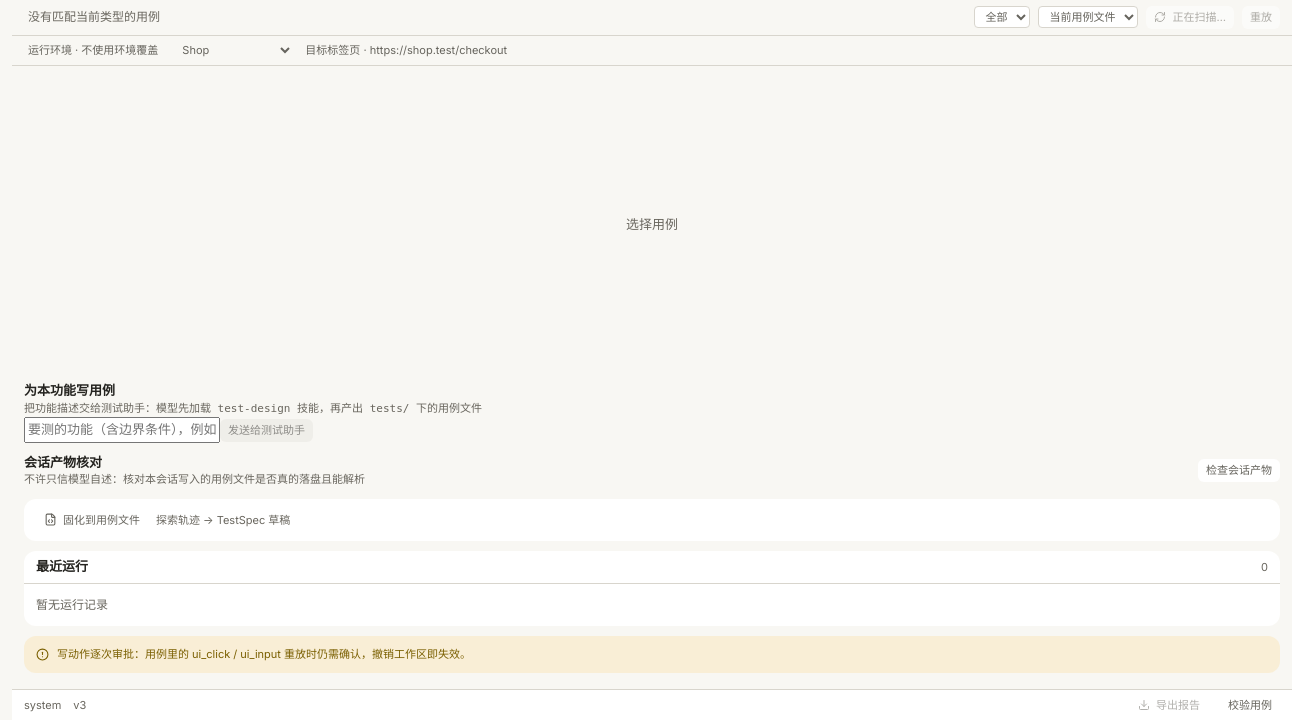
Test: TestingView run flow › runs every valid spec under one batch and shows the batch summary
The image size is (1292, 720).
Select "全部" in the dropdown named "运行范围" at (1088, 17), box [1038,6,1138,28]
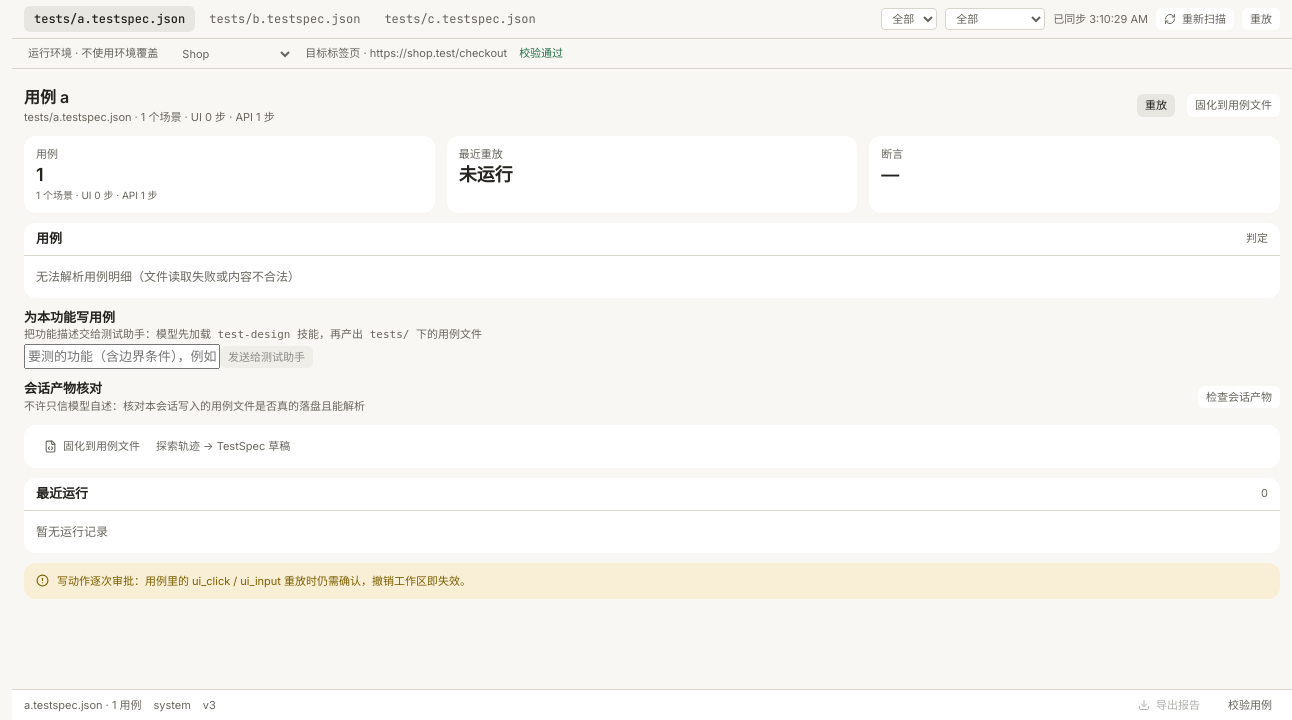
Select "UI" in the dropdown named "类型" at (909, 19), box [881,8,937,30]
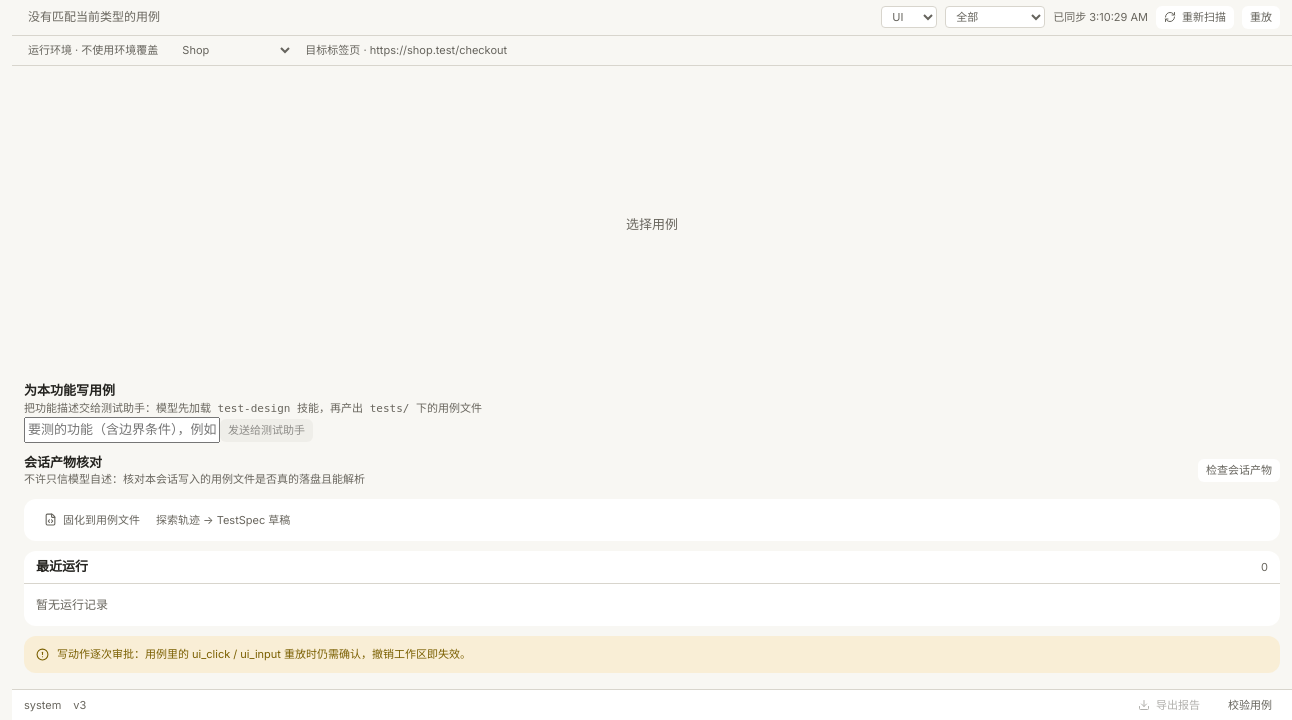
Check: the button "重放" is enabled
// 有 3 个用例文件时「重放」在两处（顶栏 + 用例详情），取顶栏那个。
Click the button "重放" at (1261, 17), box [1242,6,1280,28]
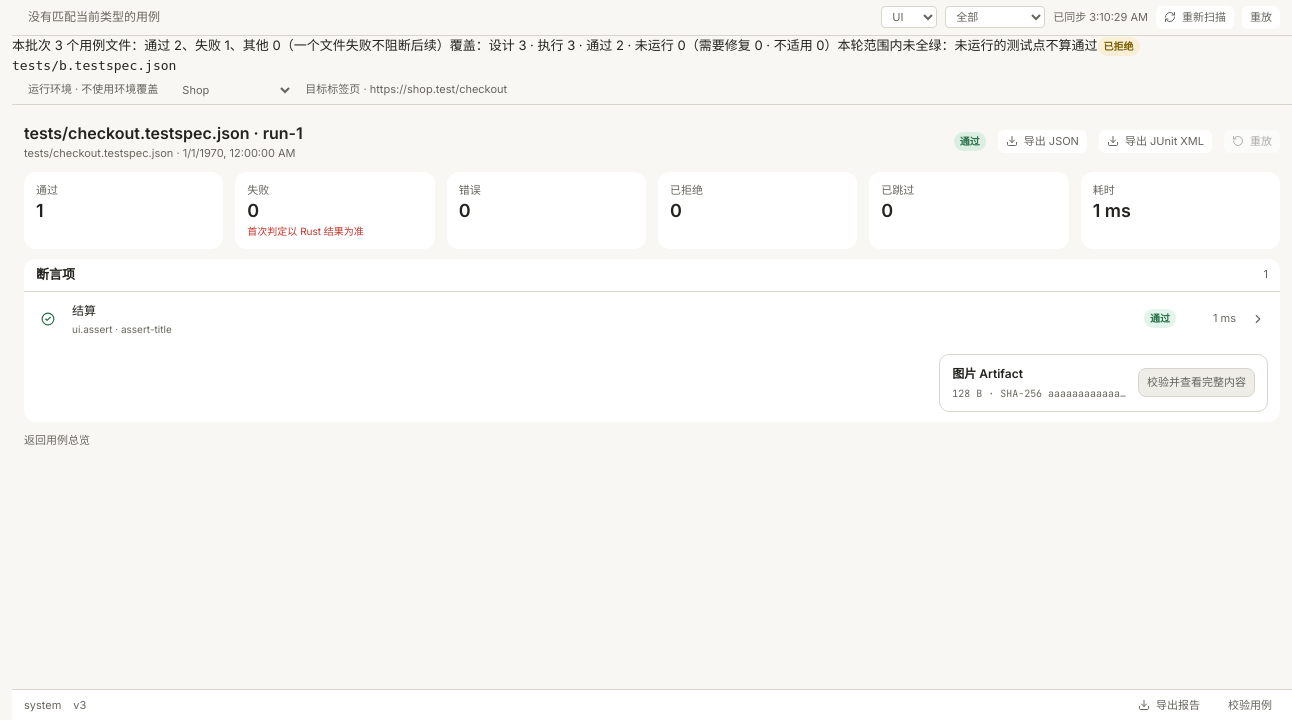
Check: the text "本批次 3 个用例文件：通过 2、失败 1、其他 0（一个文件失败不阻断后续）" is shown, box [12,36,450,52]
Check: the text "tests/b.testspec.json" is shown, box [12,58,176,72]
Check: the text "已拒绝" next to "本轮范围内未全绿：未运行的测试点不算通过" is shown, box [1104,40,1134,52]
